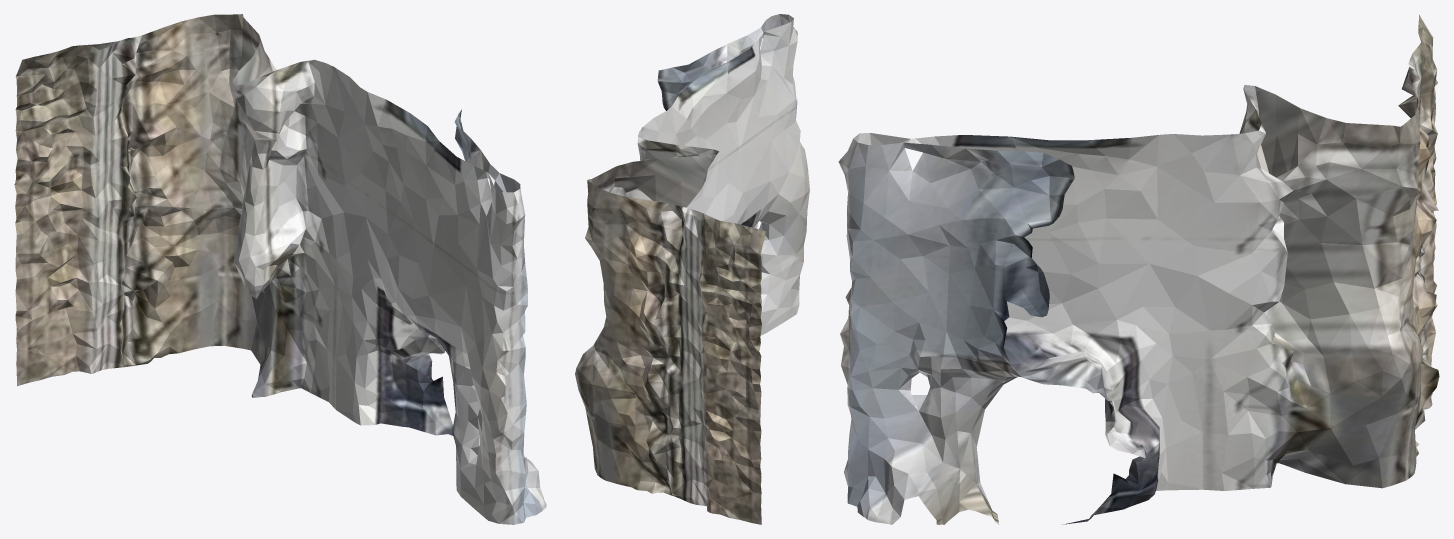
Rendered from tile_5_17_31_tex.obj.
3 views of the same model, side by side, from view 1: azimuth 30°, elevation 25°; view 2: azimuth 150°, elevation 25°; view 3: azimuth 270°, elevation 25° (orthographic). The views are drawn at different scales.
Visible parts, largest first — view 1: obj_0; view 2: obj_0; view 3: obj_0.
Boxes of the visible parts, bbox=[...] form: obj_0: bbox=[14, 14, 546, 524]; obj_0: bbox=[575, 14, 809, 524]; obj_0: bbox=[838, 14, 1439, 524].
Size of the model in its own units: 5.01 by 5.63 by 8.49.
1 material, 1 textured.
